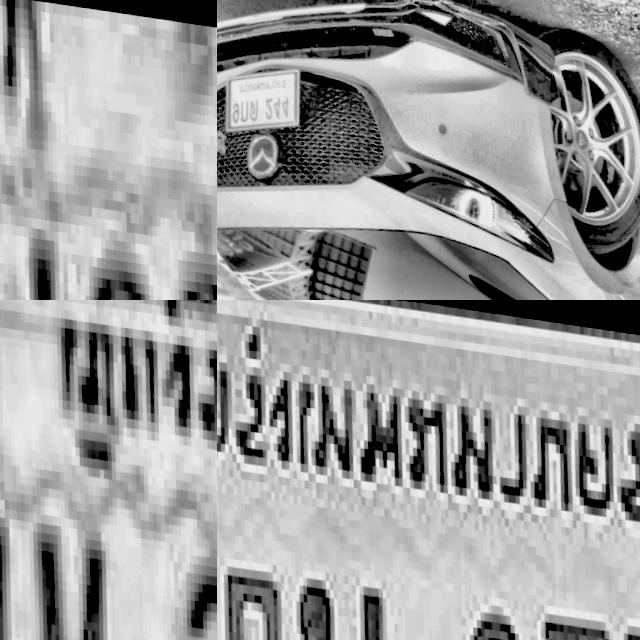license-plate: (217, 300, 640, 640), (0, 300, 217, 640), (0, 0, 217, 300), (217, 56, 305, 141)
